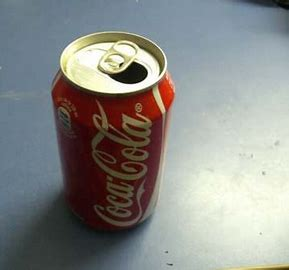Coke: (50, 30, 179, 239)
